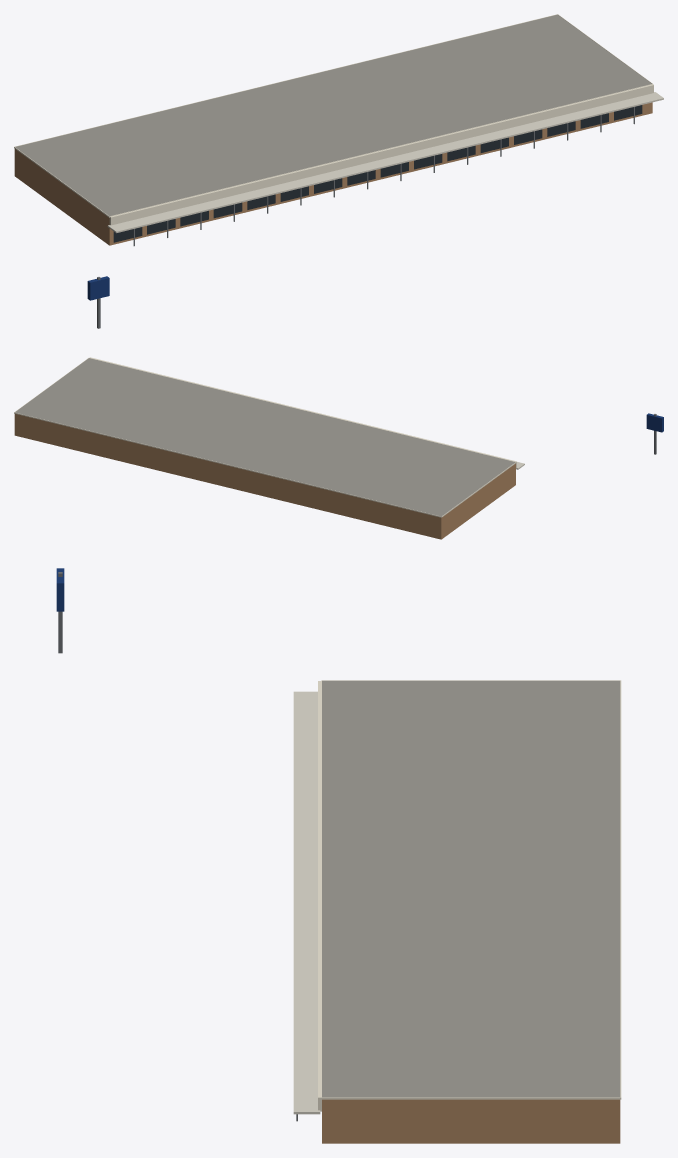
File: broadmoor-shopping-center.glb
3 renders of one model, top to bottom at view 1: azimuth 30°, elevation 25°; view 2: azimuth 150°, elevation 25°; view 3: azimuth 270°, elevation 25°, orthographic. The views are drawn at different scales.
Visible parts, largest first — view 1: broadmoor_roof, broadmoor_fascia, broadmoor_canopy, broadmoor_brick, broadmoor_glass, broadmoor_post, broadmoor_sign; view 2: broadmoor_roof, broadmoor_brick, broadmoor_fascia, broadmoor_sign; view 3: broadmoor_roof, broadmoor_brick, broadmoor_canopy, broadmoor_fascia.
Boxes of the visible parts, box(x1,y1,x2,y2) form: broadmoor_roof: box(15, 14, 651, 216); broadmoor_fascia: box(14, 14, 653, 225); broadmoor_canopy: box(107, 92, 663, 233); broadmoor_brick: box(14, 102, 652, 245); broadmoor_glass: box(113, 105, 642, 242); broadmoor_post: box(97, 107, 634, 328); broadmoor_sign: box(87, 276, 109, 300); broadmoor_roof: box(15, 358, 515, 516); broadmoor_brick: box(14, 414, 515, 539); broadmoor_fascia: box(14, 357, 516, 517); broadmoor_sign: box(646, 413, 663, 432); broadmoor_roof: box(322, 681, 620, 1097); broadmoor_brick: box(322, 1099, 620, 1143); broadmoor_canopy: box(293, 691, 320, 1114); broadmoor_fascia: box(318, 680, 621, 1111).
Bounding box in the file's own units: 136 × 10.45 × 65.3.
